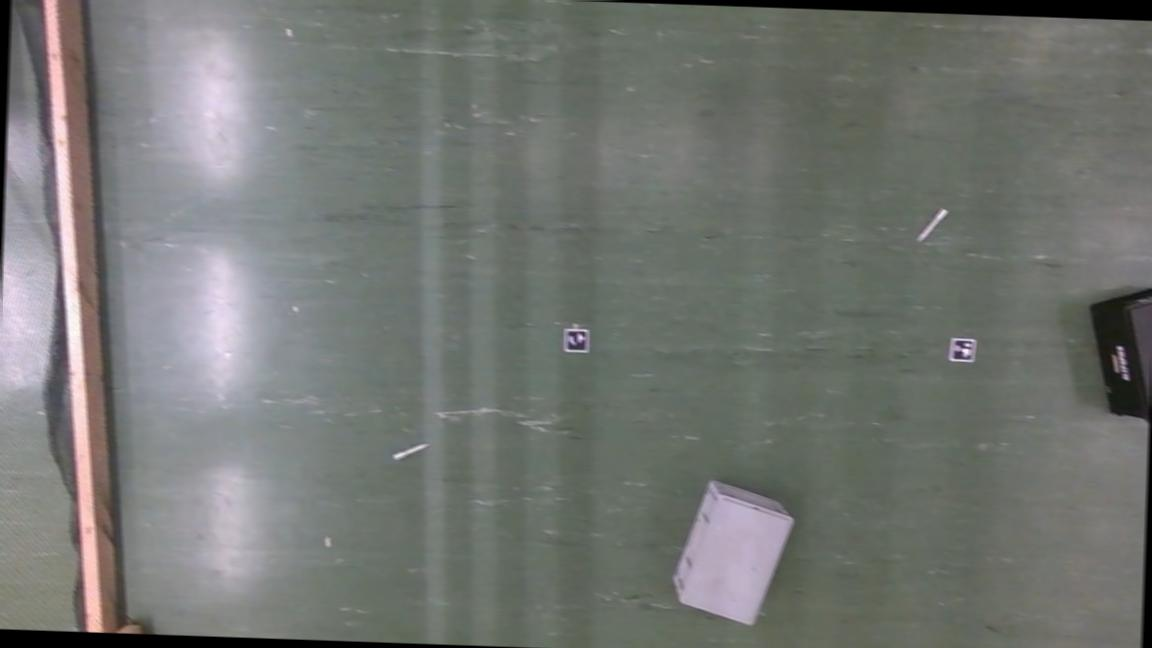probes: (918, 204, 947, 241), (392, 439, 425, 460)
rako: (671, 474, 794, 624), (1086, 279, 1152, 420)
